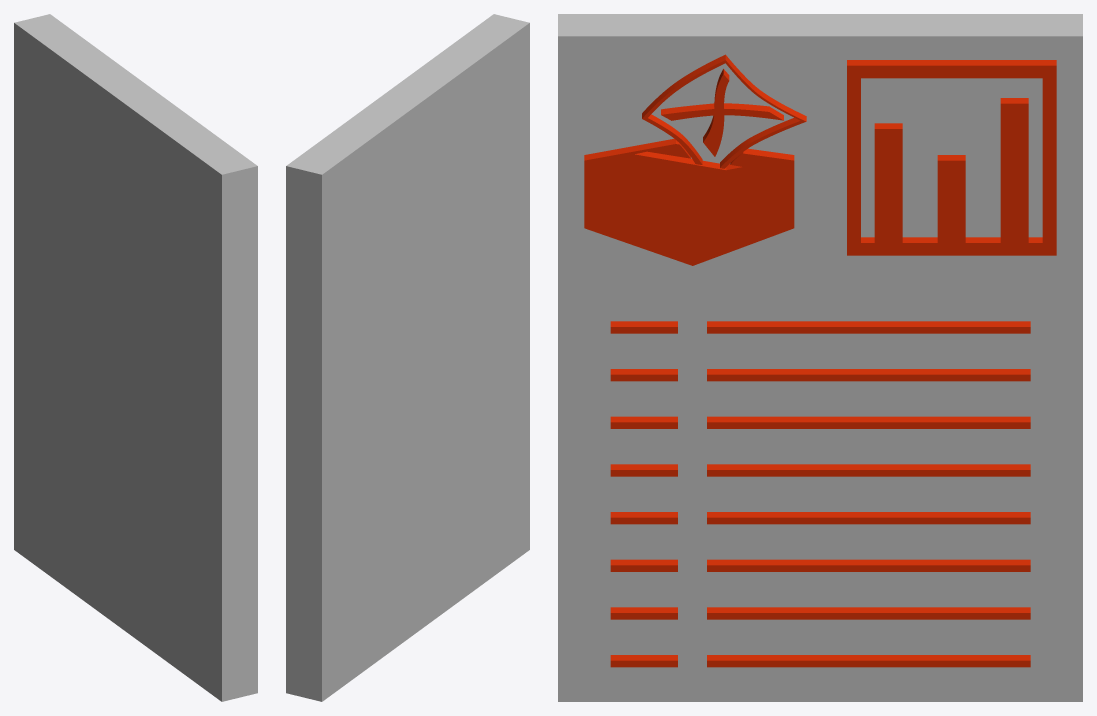
Rendered from PollResults.fbx.
3 renders of one model, left to right at view 1: azimuth 30°, elevation 25°; view 2: azimuth 150°, elevation 25°; view 3: azimuth 270°, elevation 25°, orthographic. The views are drawn at different scales.
Visible parts, largest first — view 1: Base; view 2: Base; view 3: Base, Font.
Boxes of the visible parts, box(x1,y1,x2,y2) form: Base: box(14, 14, 257, 701); Base: box(286, 14, 529, 701); Base: box(558, 14, 1082, 701); Font: box(584, 54, 1056, 667).
Bounding box in the file's own units: 25 × 280 × 200.
